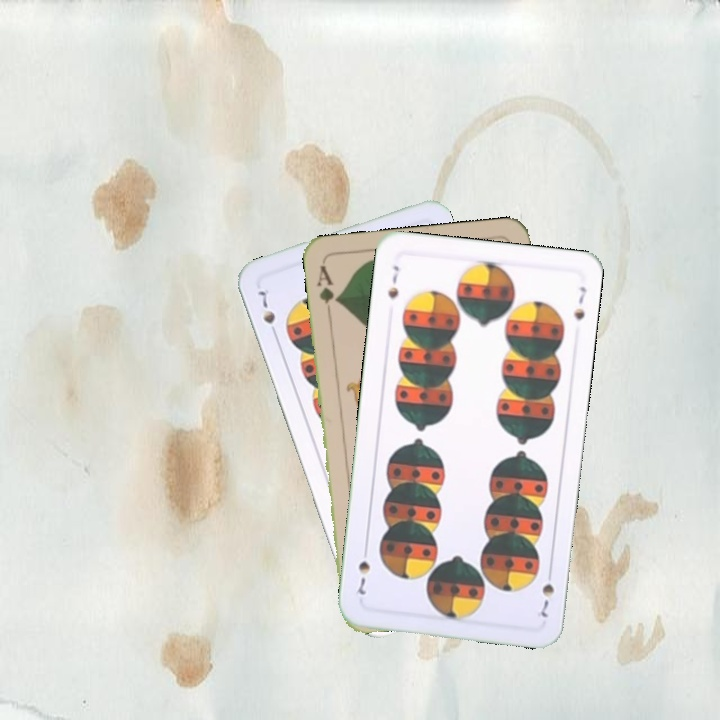GA: (312, 261, 342, 320)
S7: (254, 283, 280, 341), (533, 564, 557, 620), (384, 261, 402, 301)
